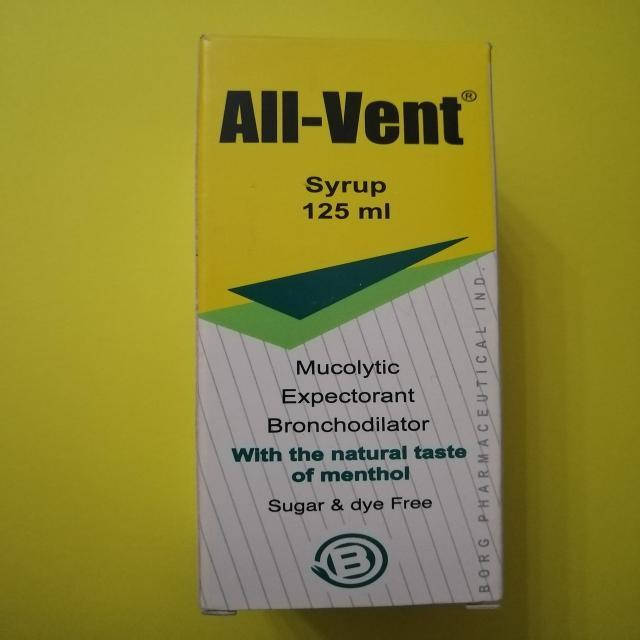Medicine Name: (218, 84, 468, 151)
